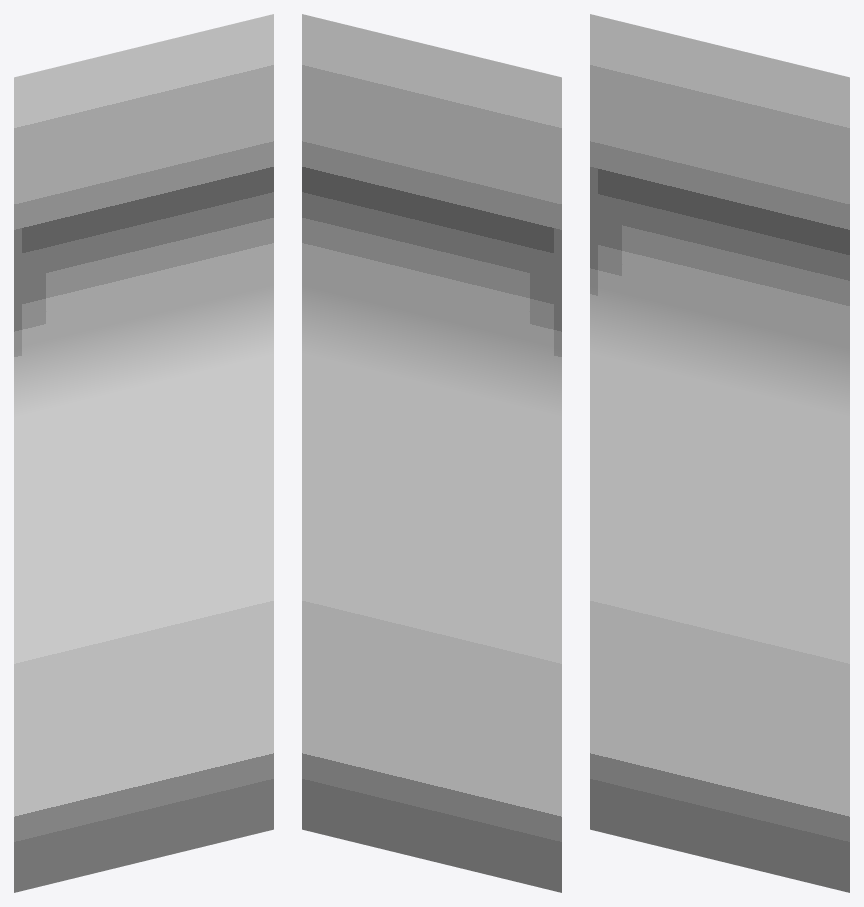
3 views of the same model, side by side, from view 1: azimuth 30°, elevation 25°; view 2: azimuth 150°, elevation 25°; view 3: azimuth 330°, elevation 25° (orthographic).
Size of the model in its own units: 1 by 3 by 0.
Materials: 1 (1 with a texture image).
